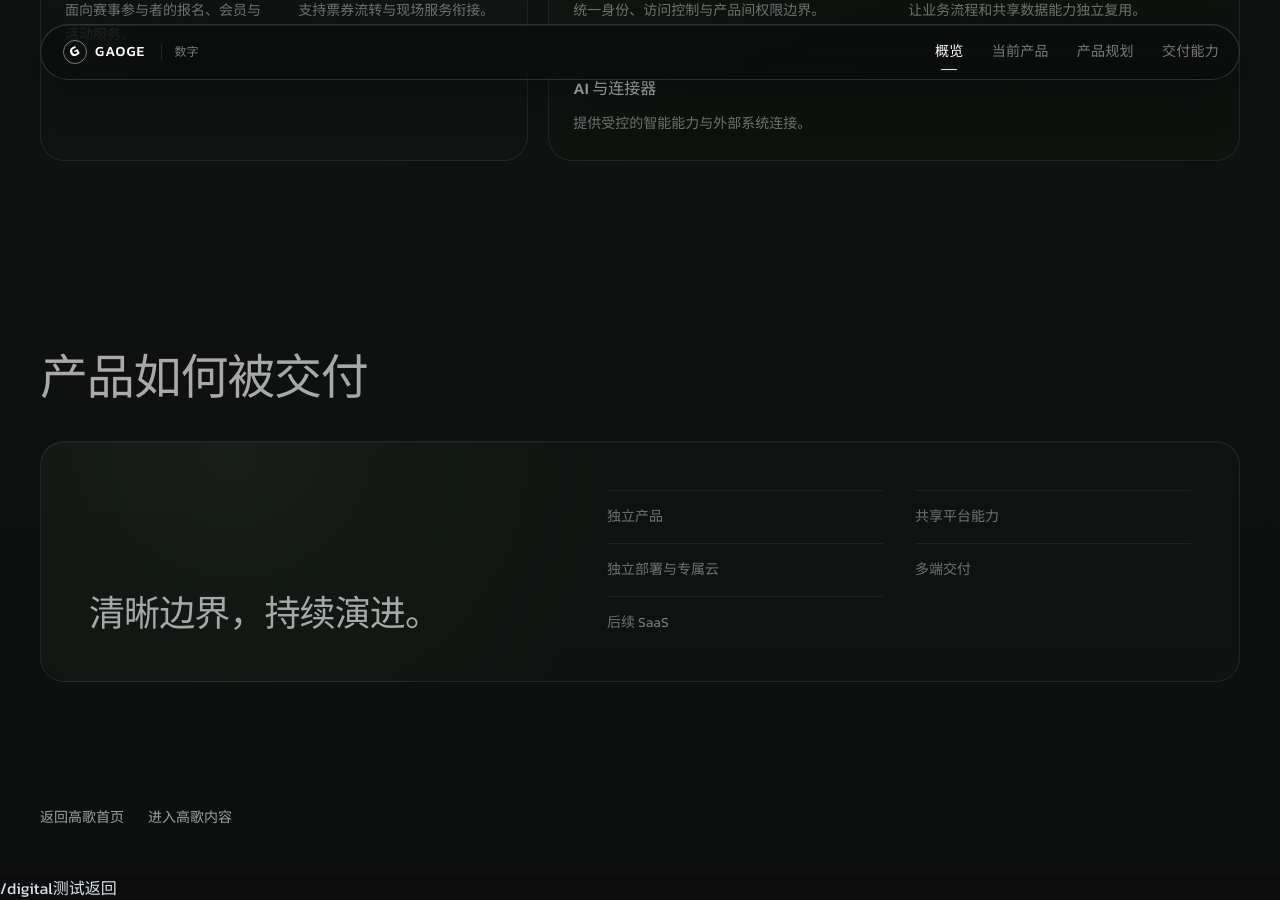
content capability route › updates metadata when crossing between formal brand pages
(page scrolled)
Click the link "进入高歌内容" at (190, 818), box 148,808 -> 232,828
(page scrolled)
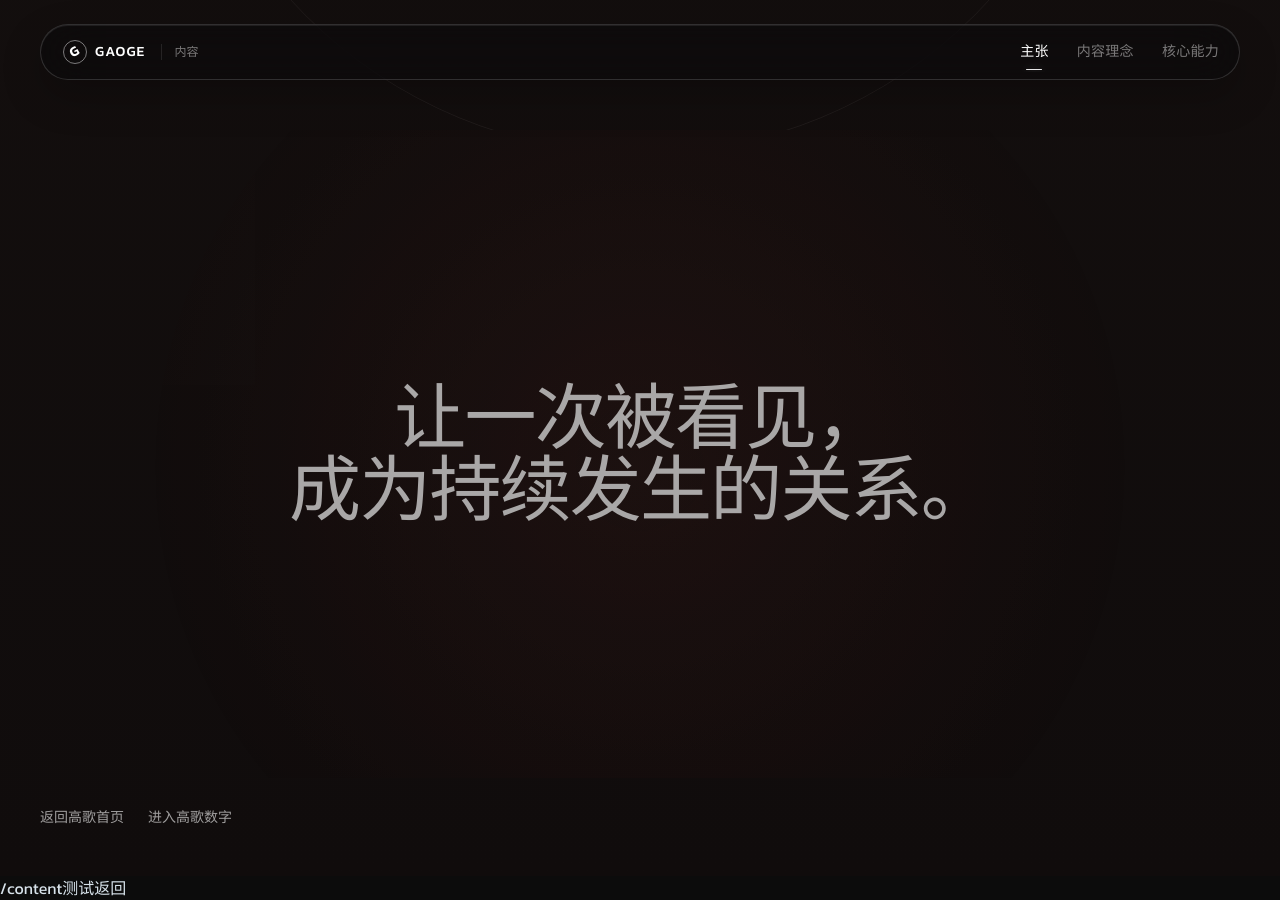
Now the text with test id "location" reads "/content", box 0,876 -> 62,899
